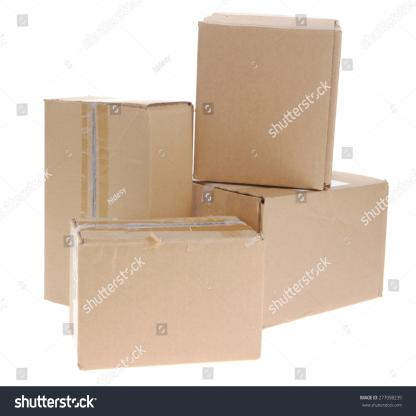box: (193, 23, 338, 191), (81, 240, 261, 372), (42, 99, 148, 310), (260, 181, 390, 330)
